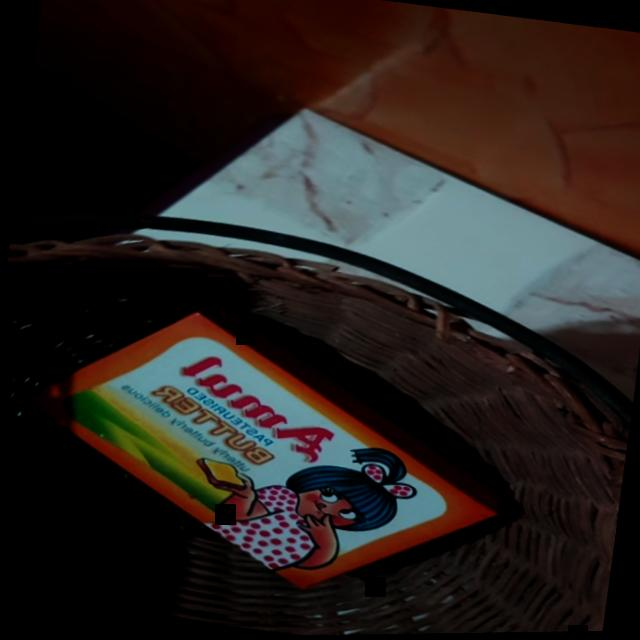butter: (2, 266, 533, 621)
